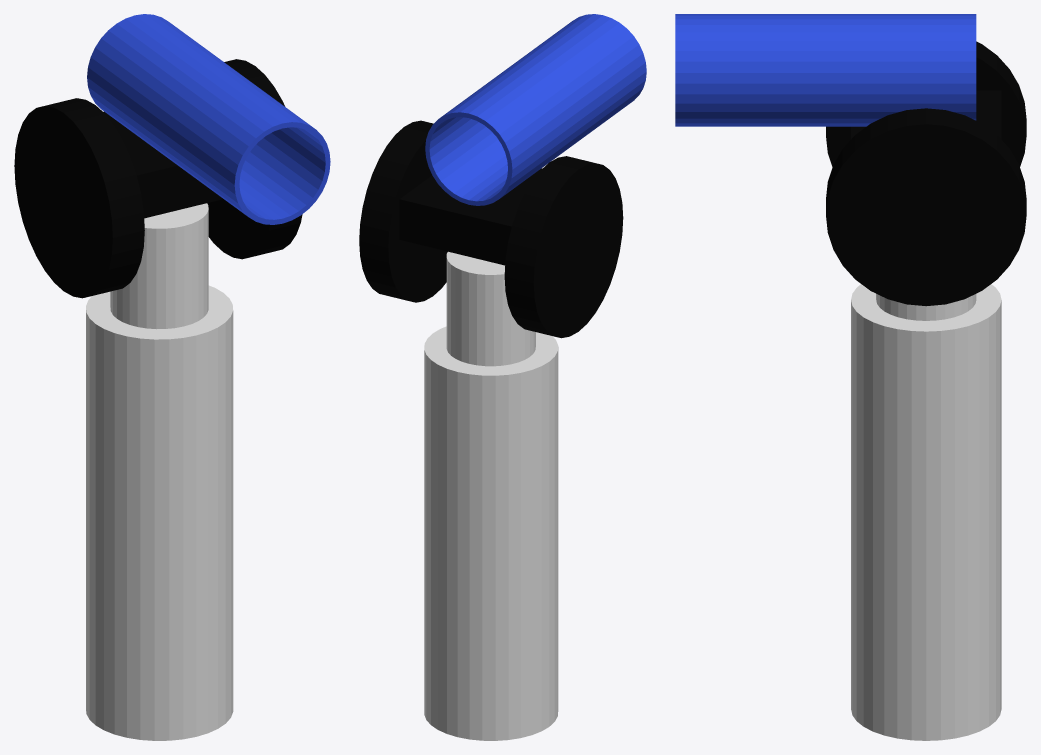
The model's file is MissileTurretModel.fbx.
3 renders of one model, left to right at view 1: azimuth 30°, elevation 25°; view 2: azimuth 150°, elevation 25°; view 3: azimuth 270°, elevation 25°, orthographic. The views are drawn at different scales.
Parts seen in each view (by area): view 1: Cube.001, Cube; view 2: Cube.001, Cube; view 3: Cube, Cube.001.
Boxes of the visible parts, x1,y1,x2,y2 form: Cube.001: [86, 203, 233, 740]; Cube: [14, 14, 330, 298]; Cube.001: [424, 251, 558, 740]; Cube: [359, 14, 646, 338]; Cube: [675, 14, 1026, 306]; Cube.001: [851, 284, 1001, 740].
Size of the model in its own units: 113 by 379 by 175.
